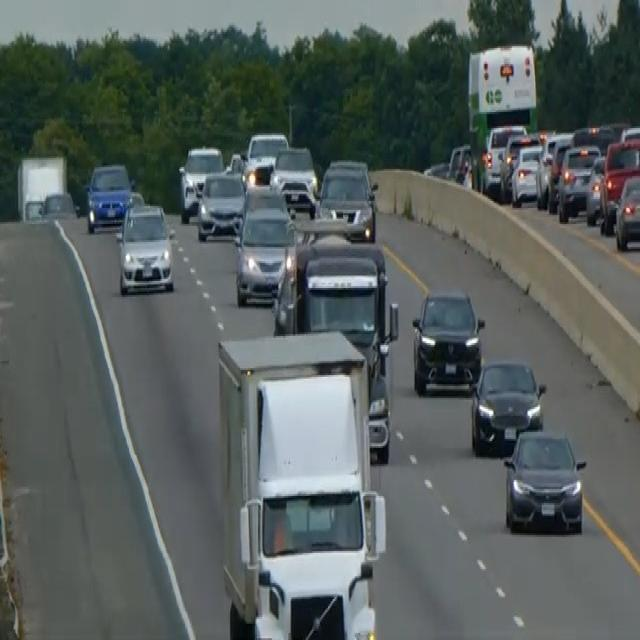car: (502, 425, 586, 535), (411, 284, 485, 394), (469, 356, 546, 454), (232, 202, 295, 306), (115, 201, 175, 295), (317, 156, 378, 240), (599, 135, 639, 233), (177, 142, 224, 222), (270, 144, 318, 217), (196, 169, 245, 240), (557, 140, 599, 222), (85, 160, 133, 231), (481, 122, 526, 194), (535, 132, 573, 210), (244, 130, 289, 181), (510, 139, 543, 206), (613, 170, 639, 250), (585, 153, 606, 224), (446, 142, 472, 185)
lorry: (215, 327, 387, 638), (272, 233, 399, 464)
